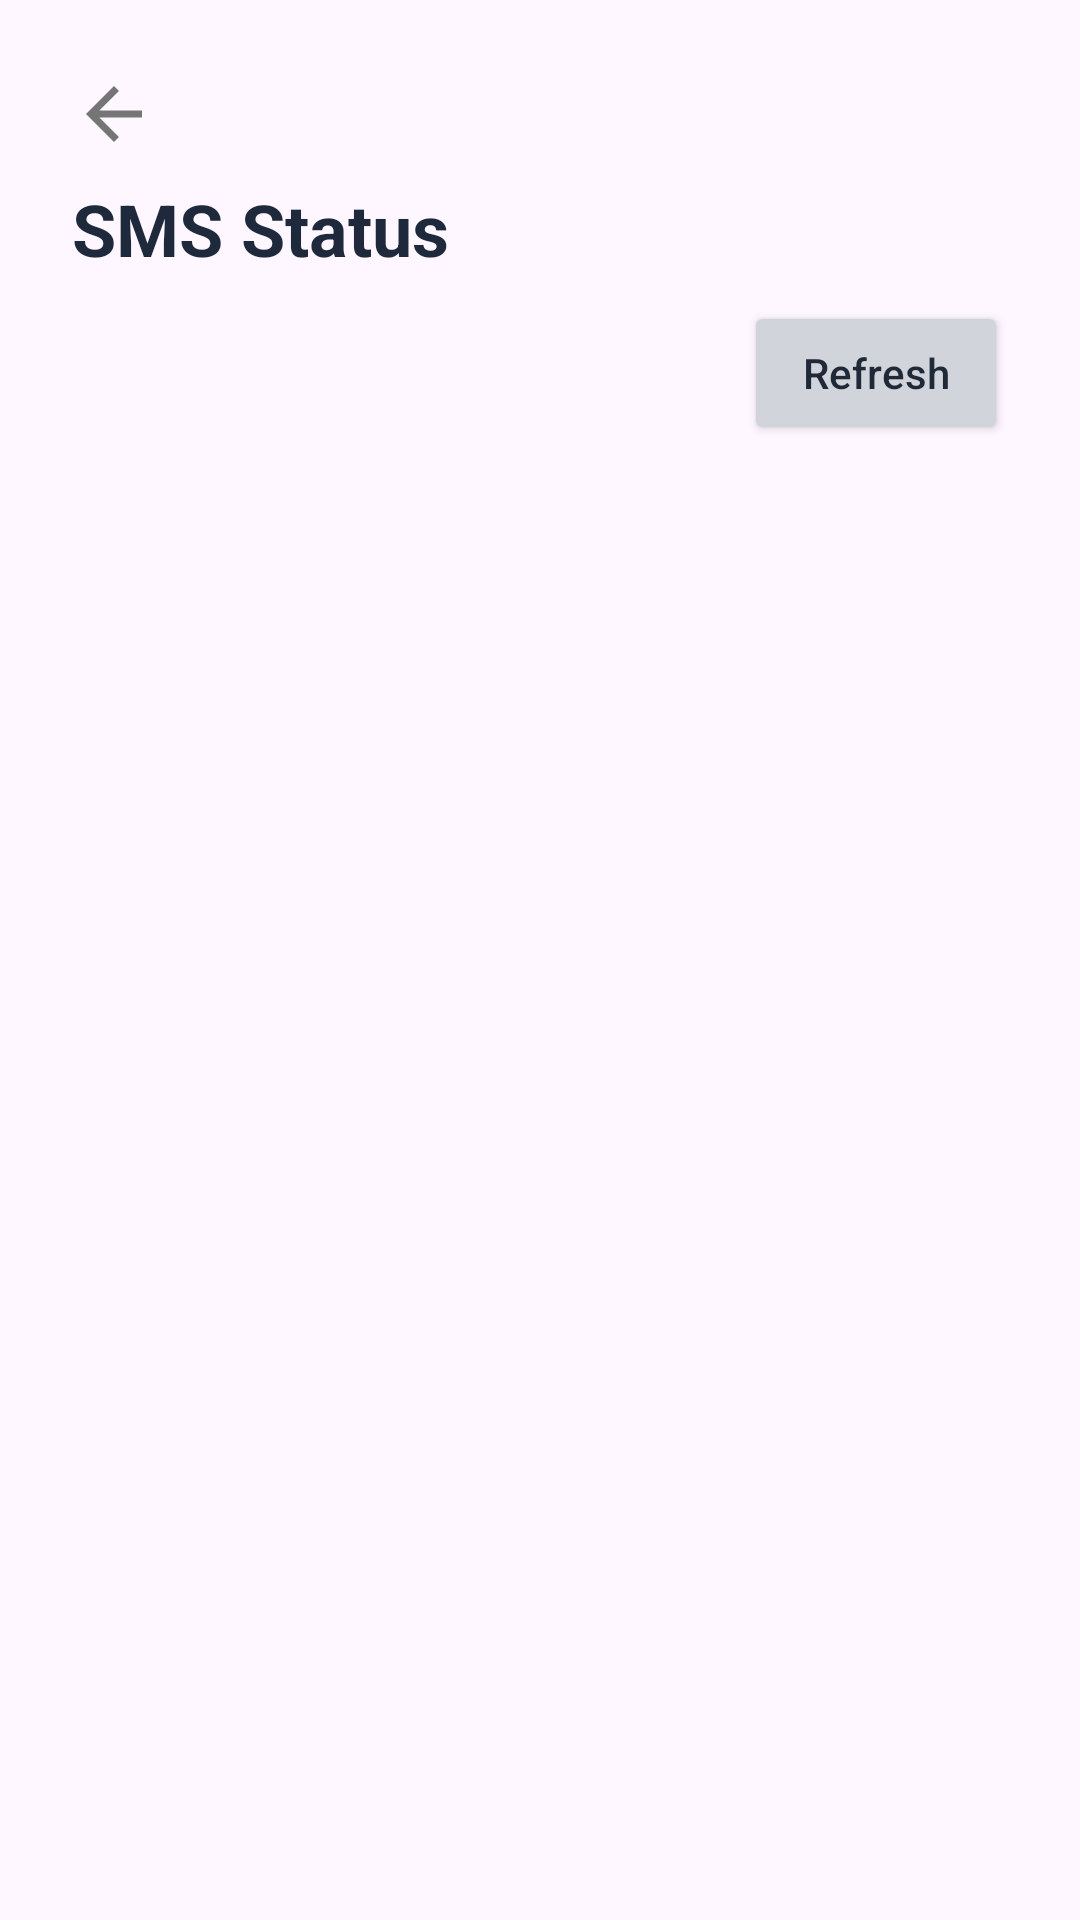

Where to tap for icons on this 1080*1920 app screen, as point (x, y):
Back: point (114, 114)
